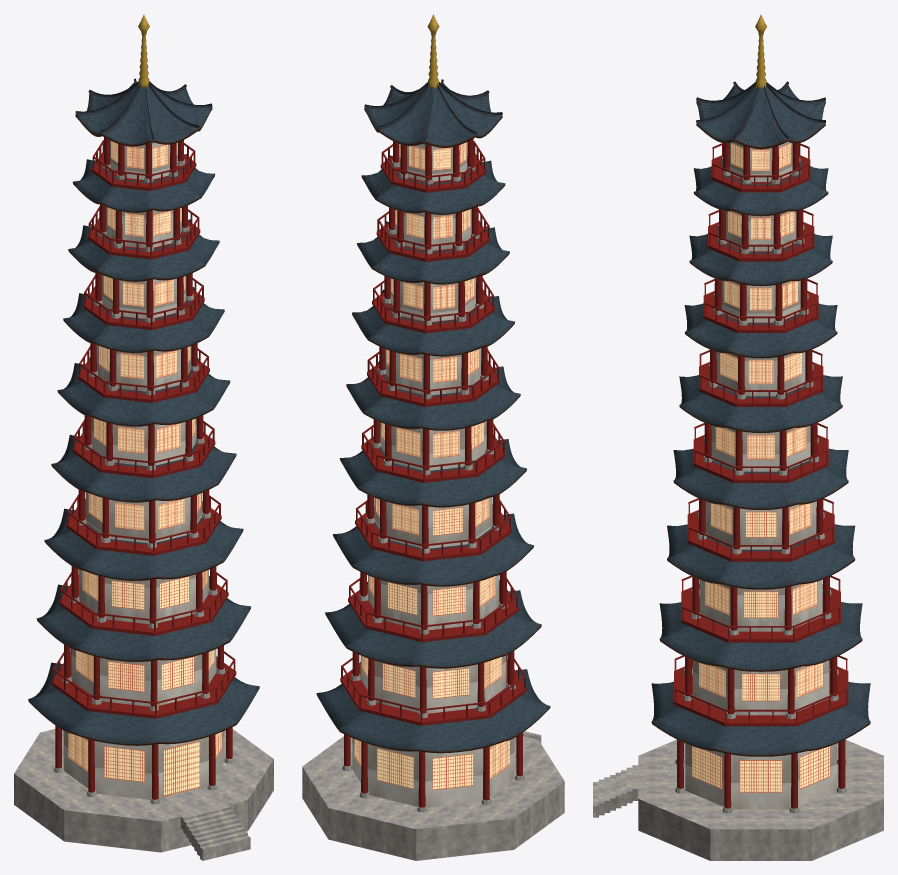
File: treasure_tower.glb
3 views of the same model, side by side, from view 1: azimuth 30°, elevation 25°; view 2: azimuth 150°, elevation 25°; view 3: azimuth 270°, elevation 25° (orthographic).
Parts seen in each view (by area): view 1: TreasureTowerBalconies, TreasureTowerWindows, TreasureTowerWalls, TreasureTowerPlinth, TreasureTowerPillars, TreasureTowerEave0, TreasureTowerEave1, TreasureTowerEave2, TreasureTowerEave3, TreasureTowerCap, TreasureTowerEave4, TreasureTowerEave5 (+6 smaller); view 2: TreasureTowerBalconies, TreasureTowerWalls, TreasureTowerPlinth, TreasureTowerWindows, TreasureTowerPillars, TreasureTowerEave0, TreasureTowerEave1, TreasureTowerEave2, TreasureTowerEave3, TreasureTowerCap, TreasureTowerEave4, TreasureTowerEave5 (+5 smaller); view 3: TreasureTowerBalconies, TreasureTowerWindows, TreasureTowerWalls, TreasureTowerPlinth, TreasureTowerPillars, TreasureTowerEave0, TreasureTowerEave1, TreasureTowerEave2, TreasureTowerEave3, TreasureTowerCap, TreasureTowerEave4, TreasureTowerEave5 (+6 smaller).
Part boxes in pixels (x1,y1,x2,y2): TreasureTowerBalconies: (51,140,236,718); TreasureTowerWindows: (68,141,222,796); TreasureTowerWalls: (63,140,224,799); TreasureTowerPlinth: (14,729,273,852); TreasureTowerPillars: (55,137,232,799); TreasureTowerEave0: (28,656,259,745); TreasureTowerEave1: (36,576,251,661); TreasureTowerEave2: (44,501,243,580); TreasureTowerEave3: (51,435,236,502); TreasureTowerCap: (75,82,212,146); TreasureTowerEave4: (57,357,230,426); TreasureTowerEave5: (63,287,224,352); TreasureTowerBalconies: (340,141,526,725); TreasureTowerWalls: (352,142,514,807); TreasureTowerPlinth: (302,736,564,860); TreasureTowerWindows: (354,142,509,790); TreasureTowerPillars: (344,138,522,807); TreasureTowerEave0: (316,662,550,753); TreasureTowerEave1: (325,582,541,668); TreasureTowerEave2: (333,513,533,586); TreasureTowerEave3: (340,439,526,507); TreasureTowerCap: (364,83,502,147); TreasureTowerEave4: (346,361,520,430); TreasureTowerEave5: (352,289,514,356); TreasureTowerBalconies: (674,143,848,726); TreasureTowerWindows: (692,142,830,792); TreasureTowerWalls: (685,141,836,809); TreasureTowerPlinth: (638,739,883,860); TreasureTowerPillars: (677,143,845,808); TreasureTowerEave0: (651,681,870,756); TreasureTowerEave1: (659,602,862,671); TreasureTowerEave2: (667,518,855,589); TreasureTowerEave3: (673,448,848,509); TreasureTowerCap: (696,85,825,149); TreasureTowerEave4: (679,375,842,432); TreasureTowerEave5: (684,303,837,358).
Size of what is drawn, in the model's own units: 14 by 50 by 16.58.
9 materials, 9 textured.
